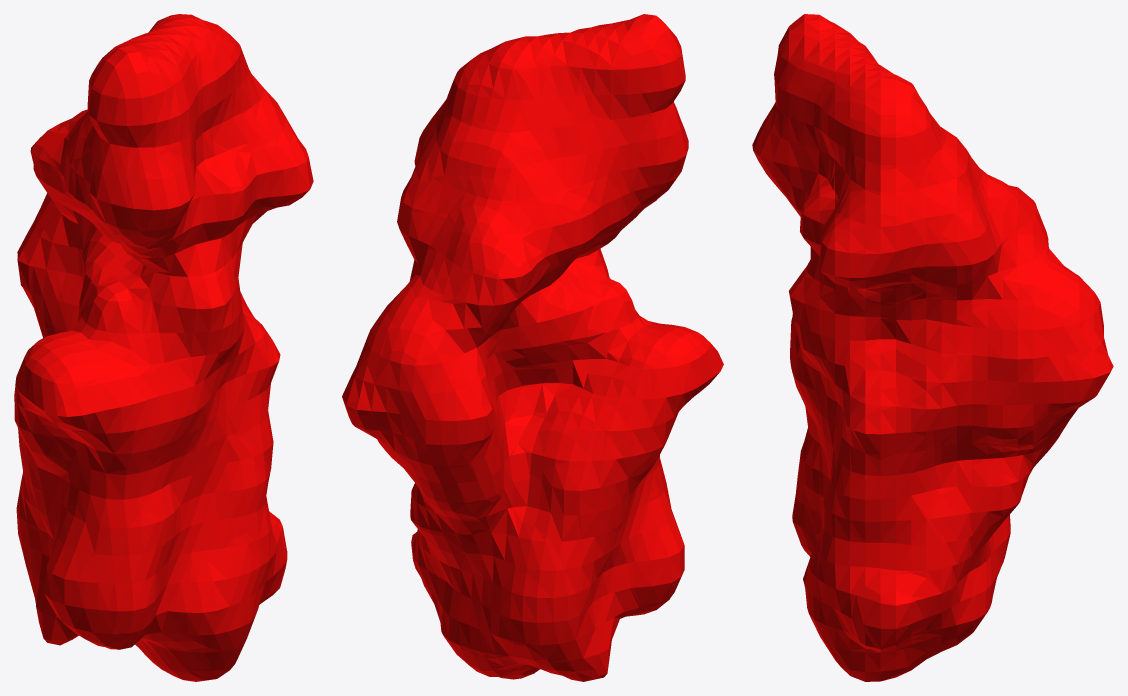
The model's file is lptG_coarse.dae.
The picture shows the model from 3 angles, left to right: view 1: azimuth 30°, elevation 25°; view 2: azimuth 150°, elevation 25°; view 3: azimuth 270°, elevation 25°; orthographic projection. The views are drawn at different scales.
Parts seen in each view (by area): view 1: lptG; view 2: lptG; view 3: lptG.
Part boxes in pixels (x1,y1,x2,y2): lptG: (14, 14, 313, 681); lptG: (342, 14, 723, 681); lptG: (752, 14, 1113, 681).
Bounding box in the file's own units: 43.72 × 100 × 53.28.
